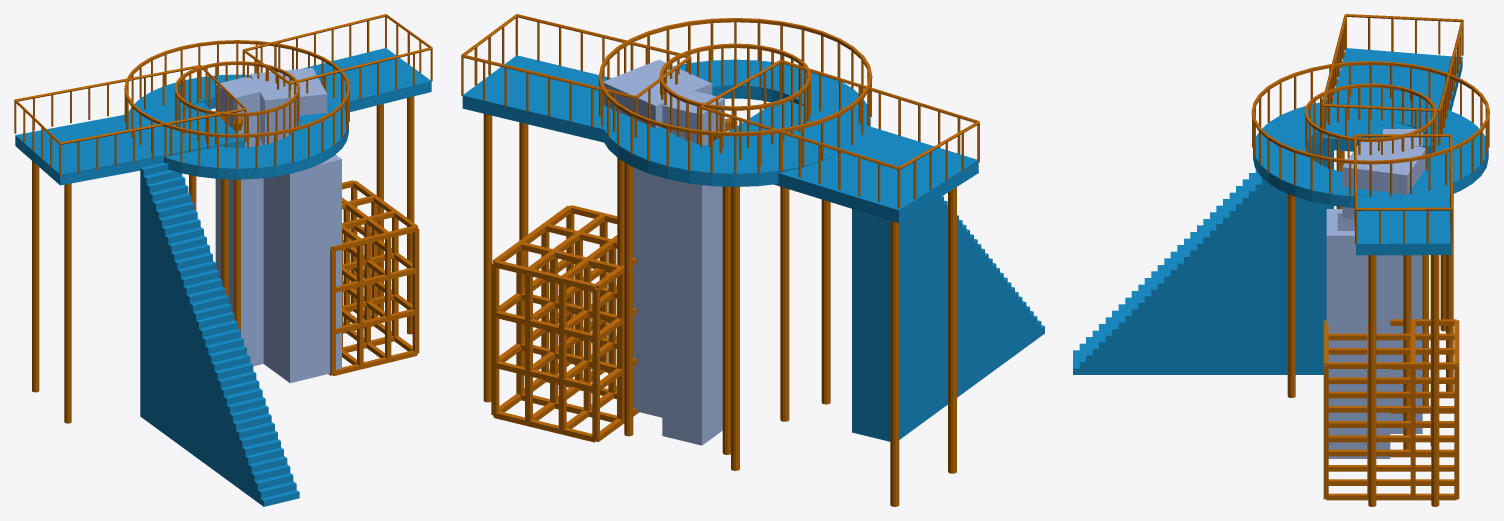
The model's file is folie_tag_061.glb.
3 renders of one model, left to right at view 1: azimuth 30°, elevation 25°; view 2: azimuth 150°, elevation 25°; view 3: azimuth 270°, elevation 25°, orthographic. The views are drawn at different scales.
Visible parts, largest first — view 1: folie_tag_061_stairs, folie_tag_061_line, folie_tag_061_03_tower, folie_tag_061_00_cage, folie_tag_061_01_ring, folie_tag_061_02_plate, folie_tag_061_core, folie_tag_061_04_plate, folie_tag_061_05_block; view 2: folie_tag_061_line, folie_tag_061_stairs, folie_tag_061_00_cage, folie_tag_061_core, folie_tag_061_02_plate, folie_tag_061_01_ring, folie_tag_061_04_plate, folie_tag_061_03_tower, folie_tag_061_05_block; view 3: folie_tag_061_stairs, folie_tag_061_line, folie_tag_061_00_cage, folie_tag_061_03_tower, folie_tag_061_01_ring, folie_tag_061_02_plate, folie_tag_061_04_plate, folie_tag_061_core, folie_tag_061_05_block.
Boxes of the visible parts, x1,y1,x2,y2 form: folie_tag_061_stairs: [140, 162, 299, 506]; folie_tag_061_line: [14, 14, 432, 423]; folie_tag_061_03_tower: [263, 154, 341, 383]; folie_tag_061_00_cage: [328, 180, 419, 375]; folie_tag_061_01_ring: [125, 74, 348, 179]; folie_tag_061_02_plate: [15, 102, 245, 185]; folie_tag_061_core: [215, 76, 263, 366]; folie_tag_061_04_plate: [301, 48, 431, 111]; folie_tag_061_05_block: [250, 67, 327, 144]; folie_tag_061_line: [461, 14, 979, 506]; folie_tag_061_stairs: [852, 196, 1044, 441]; folie_tag_061_00_cage: [491, 205, 639, 442]; folie_tag_061_core: [662, 90, 724, 445]; folie_tag_061_02_plate: [707, 99, 978, 223]; folie_tag_061_01_ring: [604, 59, 870, 186]; folie_tag_061_04_plate: [462, 55, 647, 142]; folie_tag_061_03_tower: [633, 167, 662, 417]; folie_tag_061_05_block: [603, 59, 712, 128]; folie_tag_061_stairs: [1073, 95, 1333, 374]; folie_tag_061_line: [1251, 14, 1489, 506]; folie_tag_061_00_cage: [1323, 319, 1459, 500]; folie_tag_061_03_tower: [1326, 209, 1390, 458]; folie_tag_061_01_ring: [1253, 98, 1488, 207]; folie_tag_061_02_plate: [1322, 48, 1462, 153]; folie_tag_061_04_plate: [1356, 170, 1451, 255]; folie_tag_061_core: [1383, 129, 1422, 433]; folie_tag_061_05_block: [1342, 141, 1425, 219].
Size of the model in its own units: 12.75 by 9.34 by 11.51.
